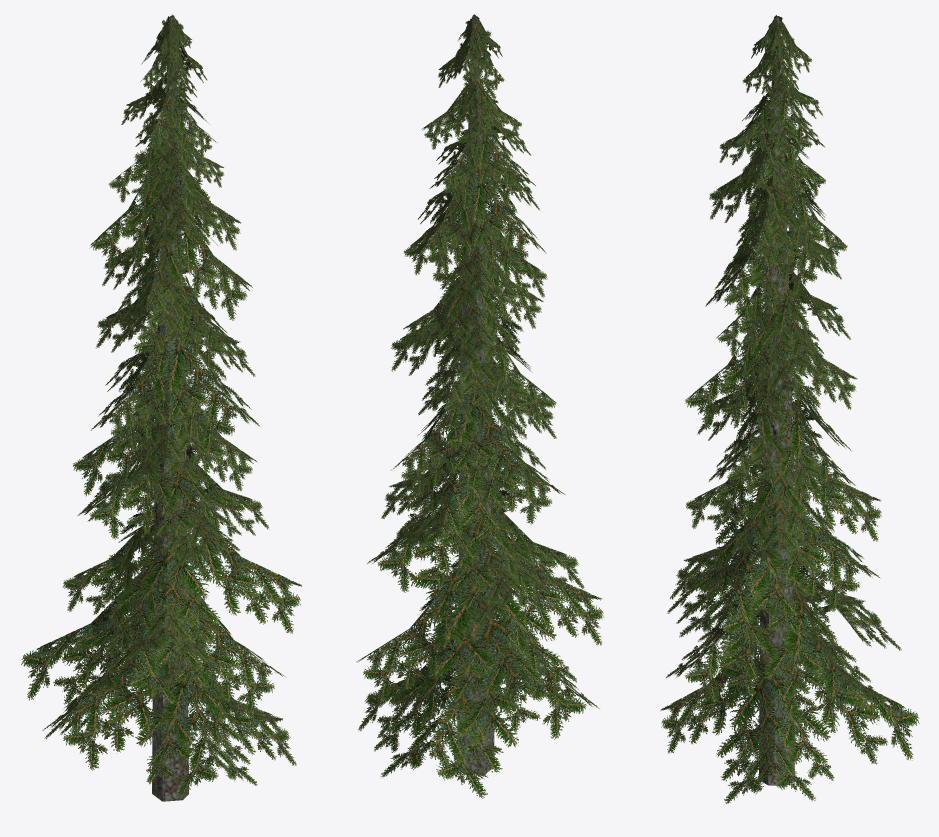
The model's file is abeto_f.glb.
3 views of the same model, side by side, from view 1: azimuth 30°, elevation 25°; view 2: azimuth 150°, elevation 25°; view 3: azimuth 270°, elevation 25° (orthographic). The views are drawn at different scales.
Parts seen in each view (by area): view 1: Modelo; view 2: Modelo; view 3: Modelo.
Boxes of the visible parts, box(x1,y1,x2,y2) form: Modelo: box(21, 14, 301, 801); Modelo: box(356, 14, 604, 798); Modelo: box(660, 15, 919, 803).
Size of the model in its own units: 3.06 by 8.55 by 2.83.
Materials: 1 (1 with a texture image).
